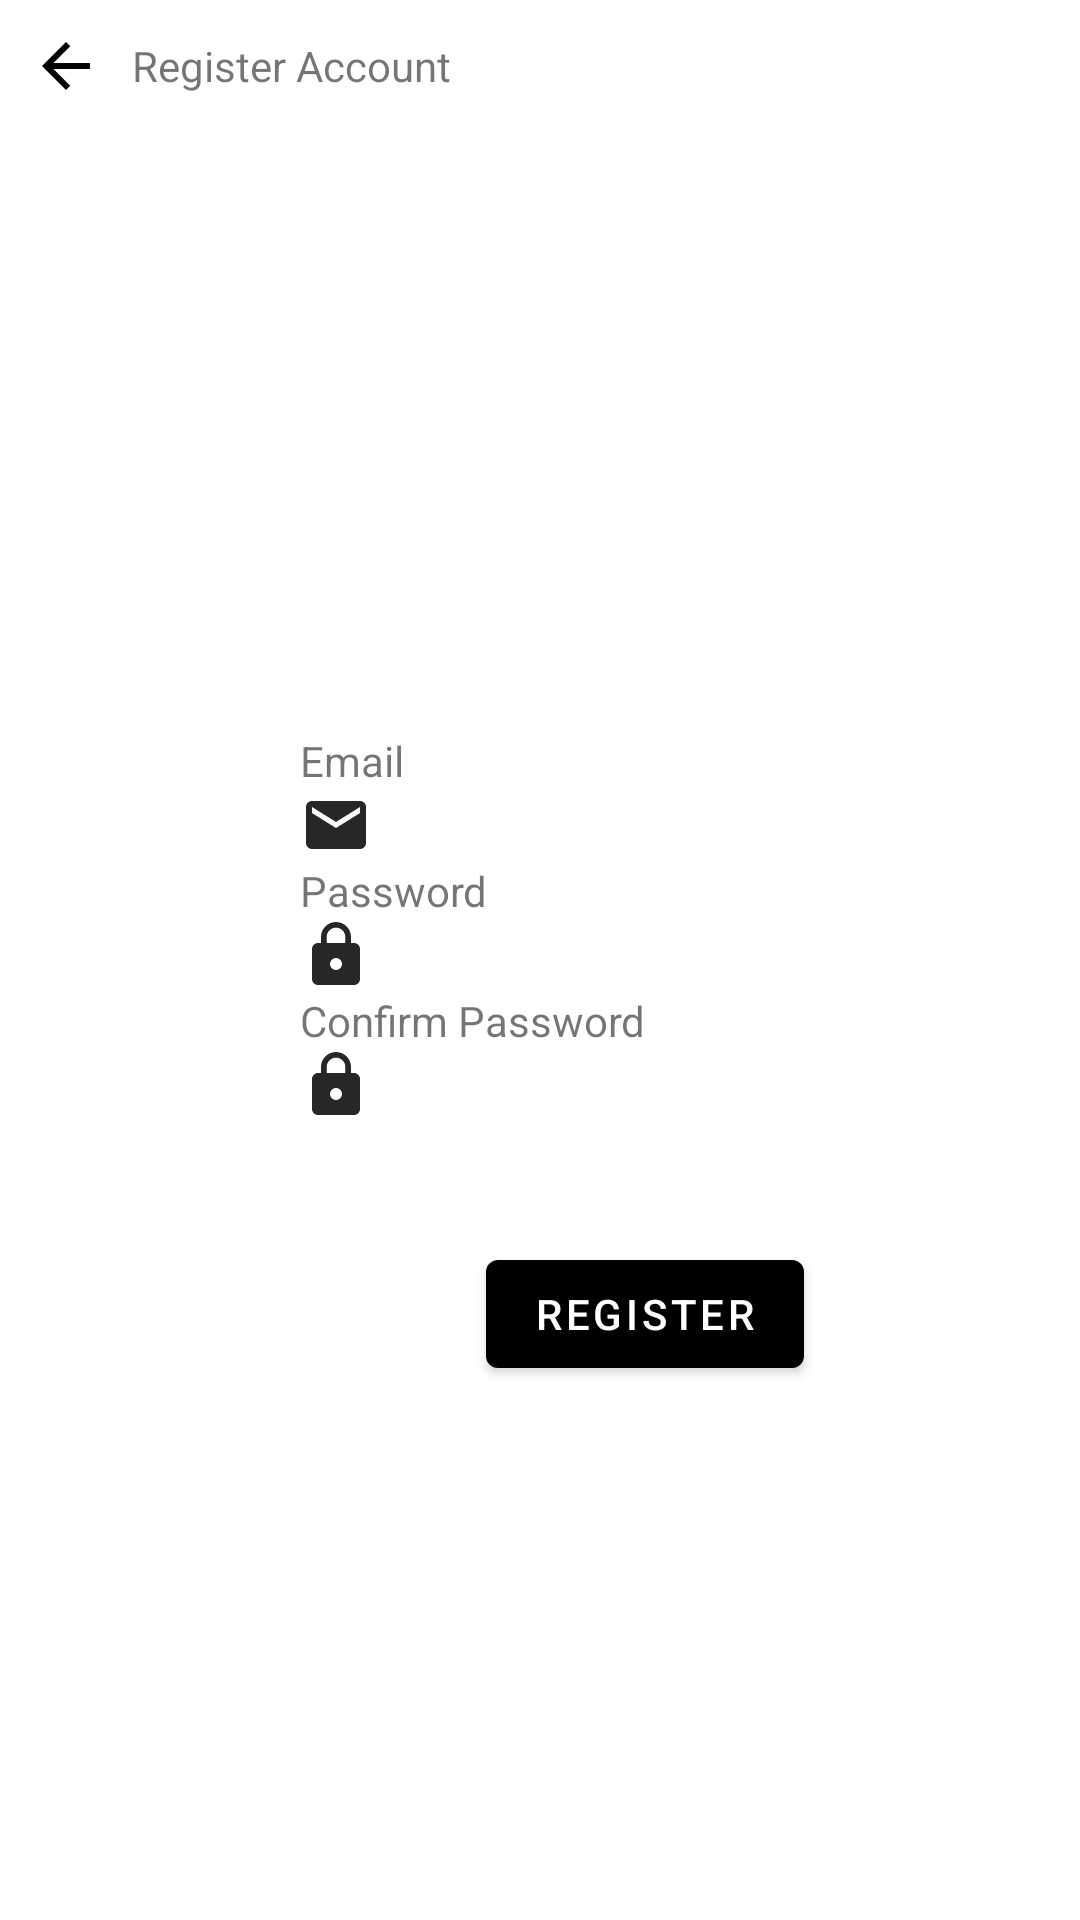

Screen size 1080*1920. Icon name, then its center in pixels as (x,y):
icoback: (66,66)
